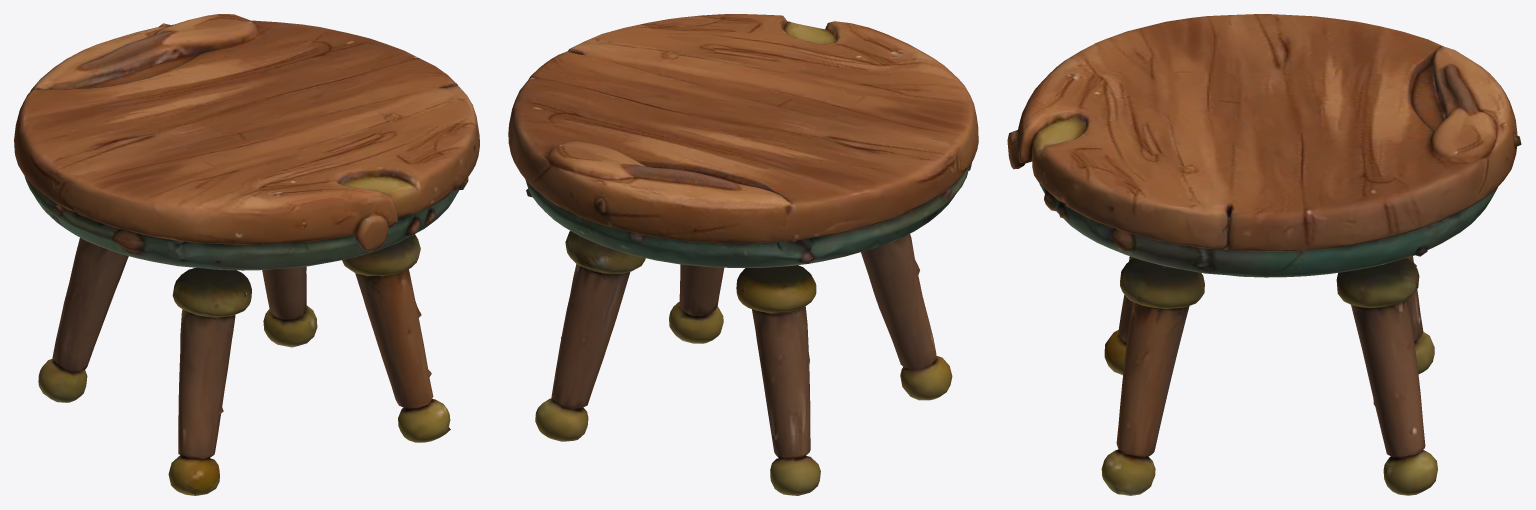
The model's file is deco_sidetable.glb.
3 renders of one model, left to right at view 1: azimuth 30°, elevation 25°; view 2: azimuth 150°, elevation 25°; view 3: azimuth 270°, elevation 25°, orthographic. The views are drawn at different scales.
Visible parts, largest first — view 1: tripo_node_ce0536ff-3f10-4e80-99ab-e42a944e9476; view 2: tripo_node_ce0536ff-3f10-4e80-99ab-e42a944e9476; view 3: tripo_node_ce0536ff-3f10-4e80-99ab-e42a944e9476.
Part boxes in pixels (<box>): tripo_node_ce0536ff-3f10-4e80-99ab-e42a944e9476: <box>14,14,479,495</box>; tripo_node_ce0536ff-3f10-4e80-99ab-e42a944e9476: <box>508,14,978,495</box>; tripo_node_ce0536ff-3f10-4e80-99ab-e42a944e9476: <box>1007,14,1521,495</box>.
Bounding box in the file's own units: 0.9613 × 0.7202 × 0.9997.
Materials: 1 (1 with a texture image).
